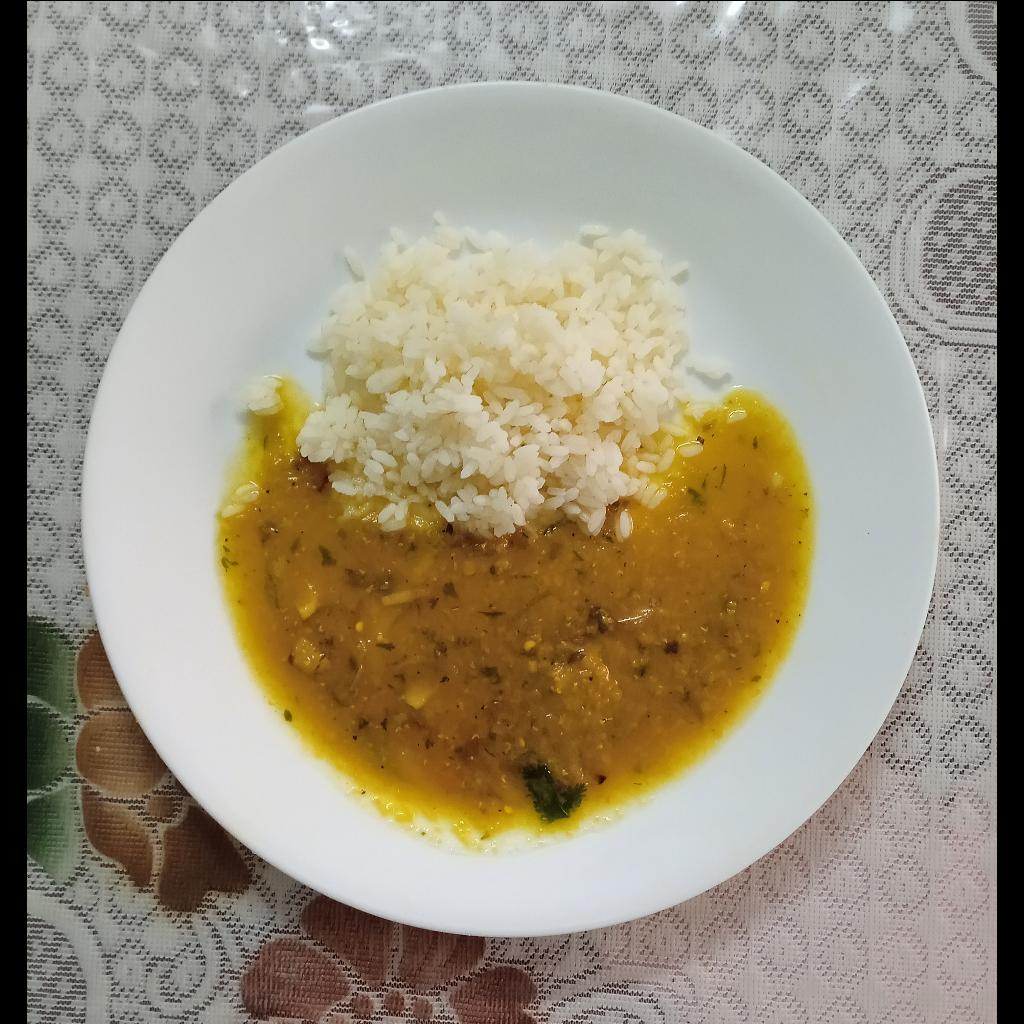daal: (236, 405, 794, 816)
rice: (303, 223, 727, 532)
